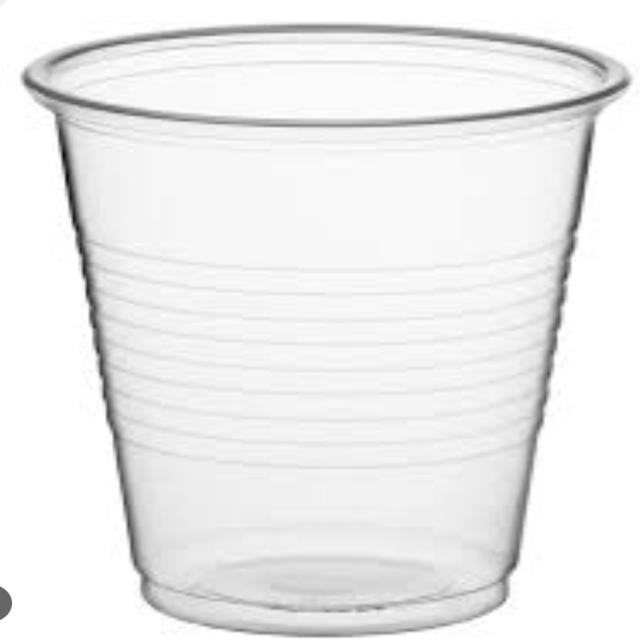recyclable: (19, 12, 630, 640)
